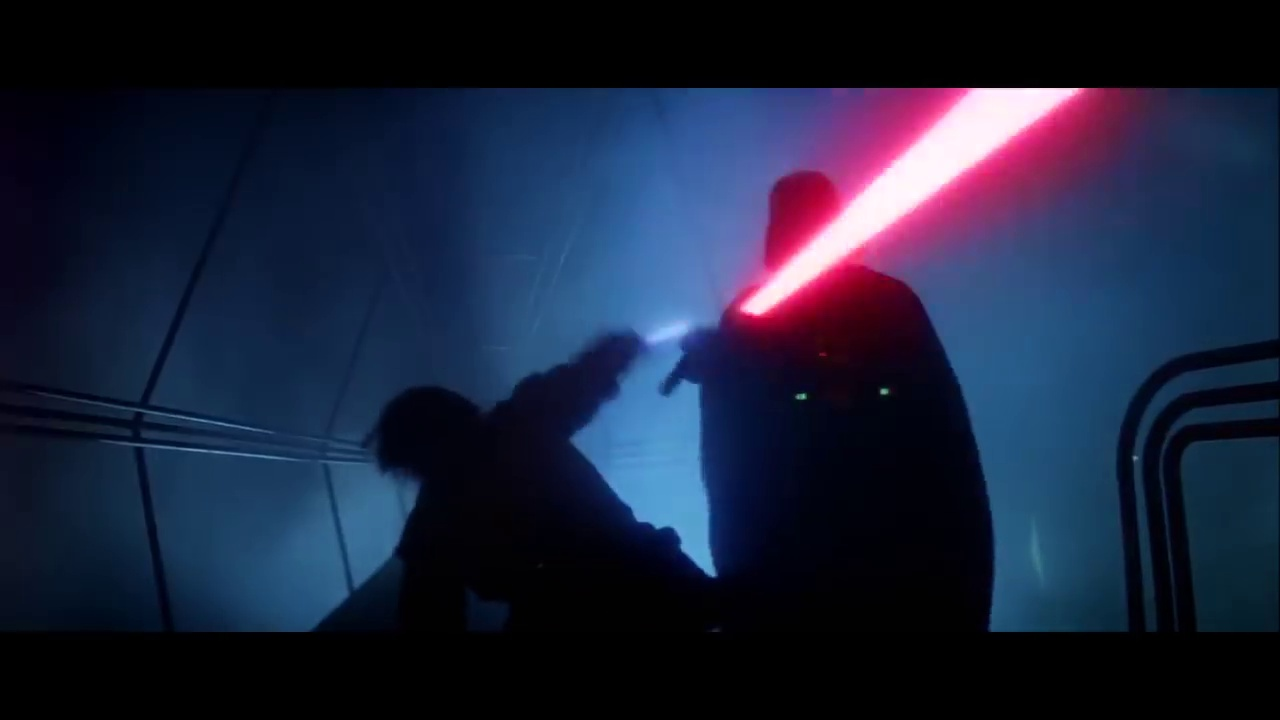lightsaber: (659, 88, 1125, 382)
